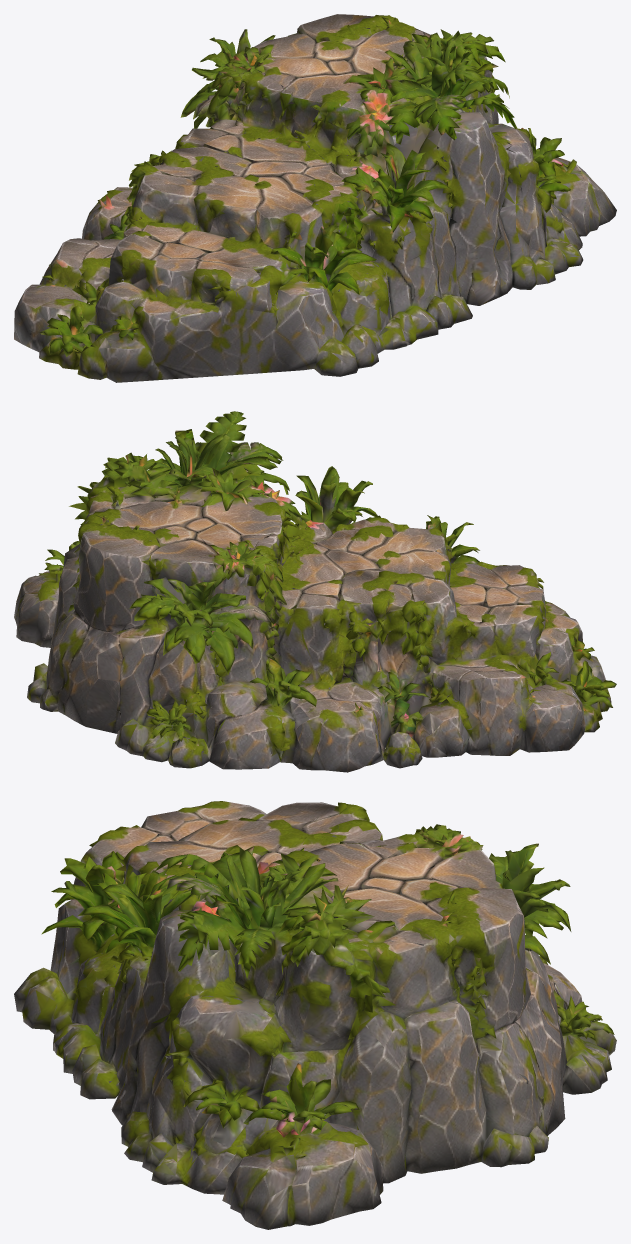
The model's file is bank_terrace.glb.
The picture shows the model from 3 angles, top to bottom: view 1: azimuth 30°, elevation 25°; view 2: azimuth 150°, elevation 25°; view 3: azimuth 270°, elevation 25°; orthographic projection. The views are drawn at different scales.
Visible parts, largest first — view 1: Mesh_0; view 2: Mesh_0; view 3: Mesh_0.
Part boxes in pixels (x1,y1,x2,y2): Mesh_0: [14, 14, 616, 382]; Mesh_0: [14, 411, 616, 772]; Mesh_0: [14, 801, 616, 1229].
Size of the model in its own units: 1.9 by 0.6556 by 1.35.
1 material, 1 textured.
